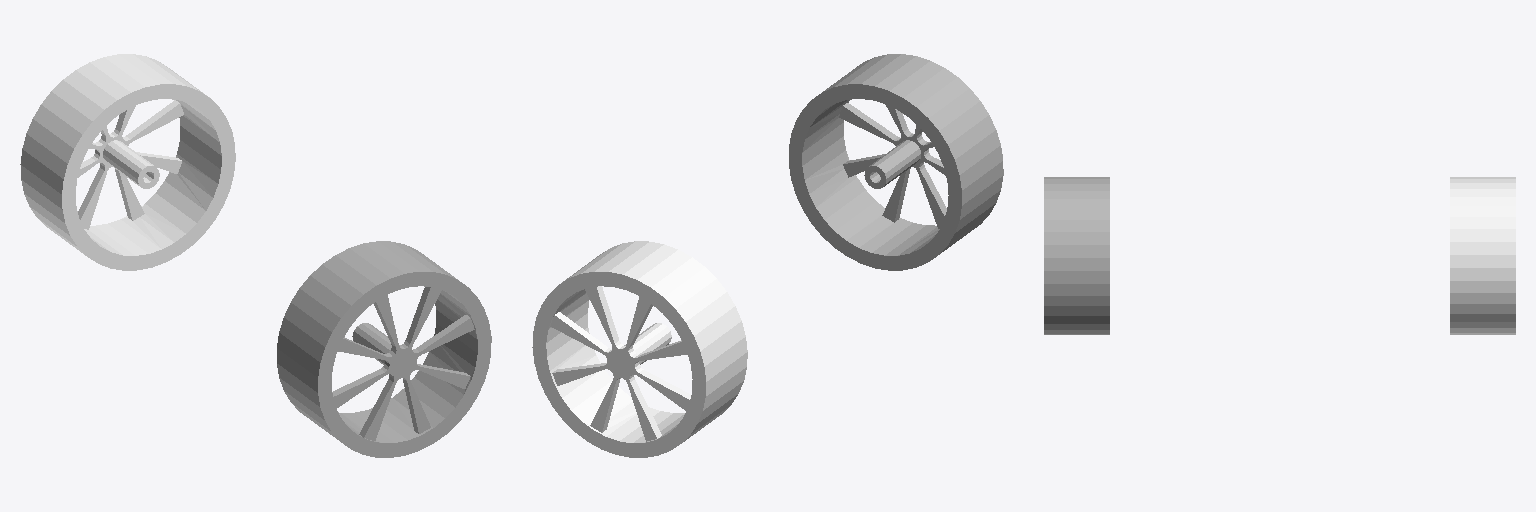
The robot description file, URDF, robot "robot_resto_urdf":
<?xml version="1.0" encoding="utf-8"?>

<robot name="robot_resto_urdf">

  <gazebo>
    <plugin name="gazebo_ros_control" filename="libgazebo_ros_control.so">
      <robotNamespace>/</robotNamespace>
      <legacyModeNS> true </legacyModeNS>
    </plugin>
  </gazebo>

  <link name="base_link">
    <inertial>
      <origin xyz="0 0 0" rpy="0 0 0" />
      <mass value="0.62609" />
      <inertia
        ixx="0.0011527"
        ixy="-6.6808E-08"
        ixz="3.2285E-07"
        iyy="0.0023193"
        iyz="-1.2268E-06"
        izz="0.0012482" />
    </inertial>
    <visual>
      <origin xyz="0 0 0" rpy="0 0 0" />
      <geometry>
        <mesh  filename="package://robot_resto_urdf/meshes/base_link.STL" />
      </geometry>
      <material
        name="">
        <color rgba="0.75294 0.75294 0.75294 1" />
      </material>
    </visual>
    <collision>
      <origin  xyz="0 0 0" rpy="0 0 0" />
      <geometry>
        <mesh filename="package://robot_resto_urdf/meshes/base_link.STL" />
      </geometry>
    </collision>
  </link>

  <link name="right_wheel_link">
    <inertial>
      <origin xyz="0 0 0" rpy="0 0 0" />
      <mass value="0.026404" />
      <inertia
        ixx="0"
        ixy="0"
        ixz="0"
        iyy="0"
        iyz="0"
        izz="0" />
    </inertial>
    <visual>
      <origin xyz="0 0 0" rpy="0 0 0" />
      <geometry>
        <mesh filename="package://robot_resto_urdf/meshes/right_wheel_link.STL" />
      </geometry>
      <material
        name="">
        <color rgba="0.75294 0.75294 0.75294 1" />
      </material>
    </visual>
    <collision>
      <origin xyz="0 0 0" rpy="0 0 0" />
      <geometry>
        <mesh filename="package://robot_resto_urdf/meshes/right_wheel_link.STL" />
      </geometry>
    </collision>
  </link>
  
  <joint name="right_joint" type="continuous">
    <origin xyz="0 -0.06726 0.01625" rpy="1.5708 0.085809 0" />
    <parent link="base_link" />
    <child link="right_wheel_link" />
    <dynamics damping="0.07" friction="1.0"/>
    <limit effort="5" velocity="1.0"/>
    <axis xyz="0 0 1" />
  </joint>

  <link name="left_wheel_link">
    <inertial>
      <origin xyz="0 0 0" rpy="0 0 0" />
      <mass value="0.026404" />
      <inertia
        ixx="0"
        ixy="0"
        ixz="0"
        iyy="0"
        iyz="0"
        izz="0" />
    </inertial>
    <visual>
      <origin xyz="0 0 0" rpy="0 0 0" />
      <geometry>
        <mesh filename="package://robot_resto_urdf/meshes/right_wheel_link.STL" />
      </geometry>
      <material
        name="">
        <color rgba="1 1 1 1" />
      </material>
    </visual>
    <collision>
      <origin xyz="0 0 0" rpy="0 0 0" />
      <geometry>
        <mesh filename="package://robot_resto_urdf/meshes/right_wheel_link.STL" />
      </geometry>
    </collision>
  </link>

  <joint name="left_joint" type="continuous">
    <origin xyz="0 0.06726 0.01625" rpy="1.5708 -0.042963 3.1416" />
    <parent link="base_link" />
    <child link="left_wheel_link" />
    <dynamics damping="0.07" friction="1.0"/>
    <limit effort="5" velocity="1.0"/>
    <axis  xyz="0 0 1" />
  </joint>



  <!-- Gazebo-specific link properties  -->
  <gazebo reference="base_link">
    <material>Gazebo/Orange</material>
    <turnGravityOff>false</turnGravityOff>
    <mu1 value="200.0"/>
    <mu2 value="100.0"/>
    <kp value="10000000.0" />
    <kd value="1.0" />
  </gazebo>

  
  <gazebo reference="right_wheel_link">
    <material>Gazebo/Black</material>
    <turnGravityOff>false</turnGravityOff>
    <mu1 value="200.0"/>
    <mu2 value="100.0"/>
    <kp value="10000000.0" />
    <kd value="1.0" />
  </gazebo>

 
  <gazebo reference="left_wheel_link">
    <material>Gazebo/Black</material>
    <turnGravityOff>false</turnGravityOff>
    <mu1 value="200.0"/>
    <mu2 value="100.0"/>
    <kp value="10000000.0" />
    <kd value="1.0" />
  </gazebo>


 <transmission name="right_wheel_trans">
    <type>transmission_interface/SimpleTransmission</type>
    <actuator name="$right_motor">
      <mechanicalReduction>1</mechanicalReduction>
    </actuator>
    <joint name="right_joint">
      <hardwareInterface>hardware_interface/VelocityJointInterface</hardwareInterface>
    </joint>
  </transmission>

  <transmission name="left_wheel_trans">
    <type>transmission_interface/SimpleTransmission</type>
    <actuator name="$left_motor">
      <mechanicalReduction>1</mechanicalReduction>
    </actuator>
    <joint name="left_joint">
      <hardwareInterface>hardware_interface/VelocityJointInterface</hardwareInterface>
    </joint>
  </transmission>


</robot>

--- Render facts (derived) ---
3 views of the same robot in one strip: view 1: azimuth 30°, elevation 25°; view 2: azimuth 150°, elevation 25°; view 3: azimuth 270°, elevation 25° (orthographic).
Robot: robot_resto_urdf — 3 links, 2 joints (2 continuous); root link base_link; default pose: all joints at 0.
Links seen in each view (by area): view 1: left_wheel_link, right_wheel_link; view 2: left_wheel_link, right_wheel_link; view 3: right_wheel_link, left_wheel_link.
Link boxes in pixels (x1,y1,x2,y2): left_wheel_link: (20, 54, 235, 270); right_wheel_link: (277, 241, 491, 457); left_wheel_link: (532, 241, 747, 457); right_wheel_link: (789, 54, 1003, 270); right_wheel_link: (1044, 177, 1109, 334); left_wheel_link: (1450, 177, 1515, 334).
Bounding box of the posed robot: 0.0629 × 0.1865 × 0.063 m (x, y, z).
2 mesh visuals loaded from 2 distinct referenced files (1 binary STL); not drawn: 1 (reference not matched to a file when rendering).